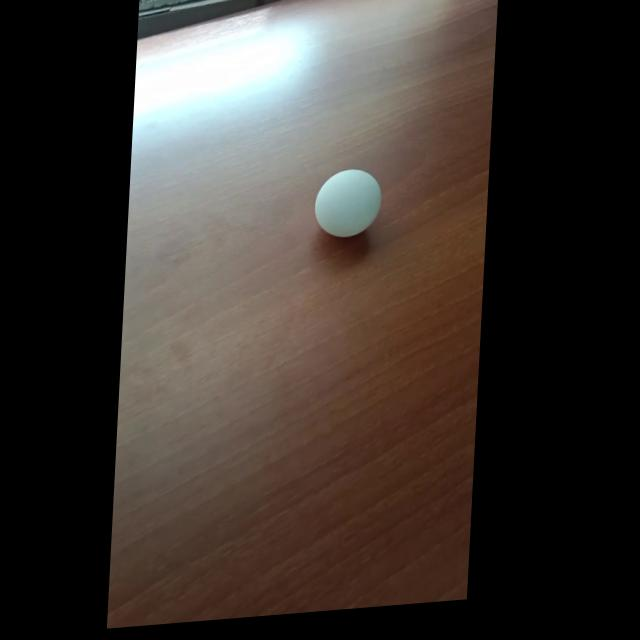white ball: (312, 165, 384, 240)
